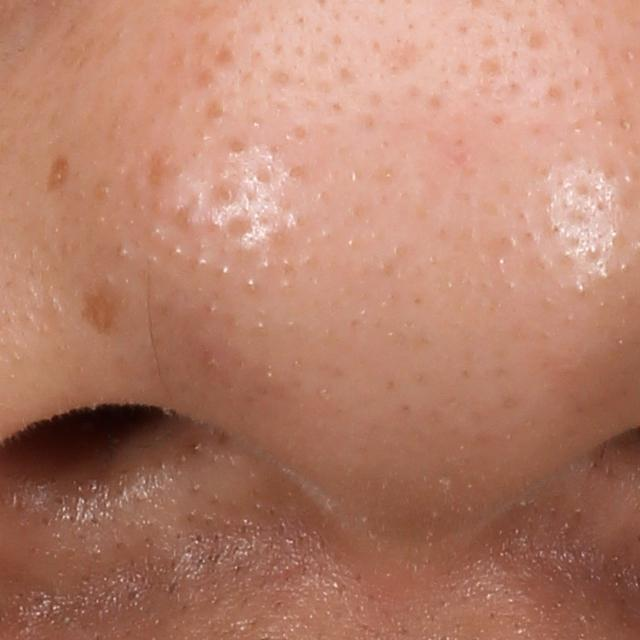melasma: (79, 285, 119, 335), (46, 147, 73, 194)
